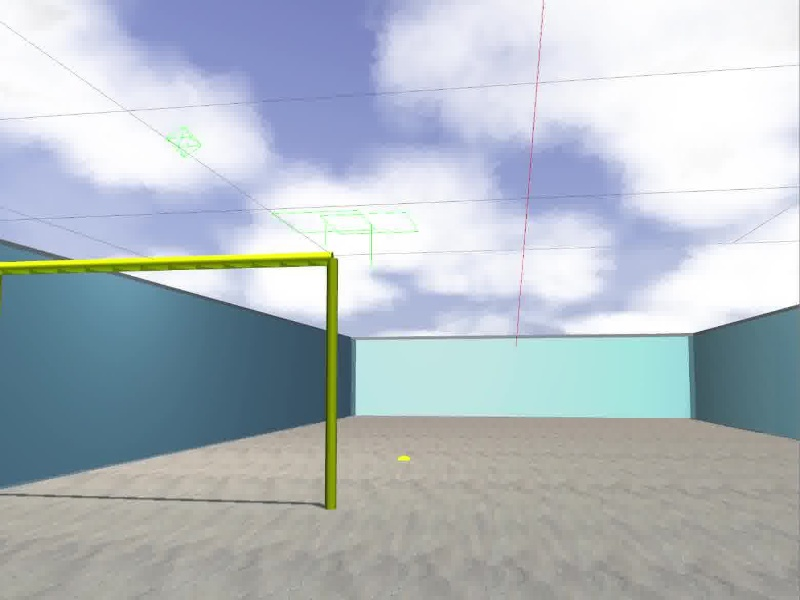gate: (1, 249, 339, 511)
